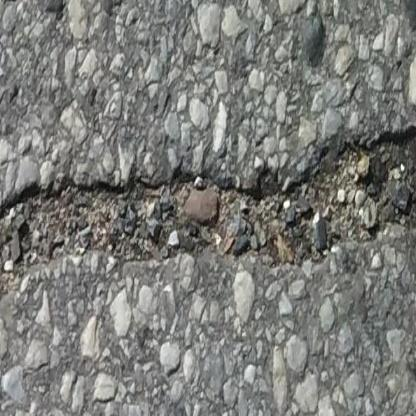Cracks: (0, 119, 416, 308)
